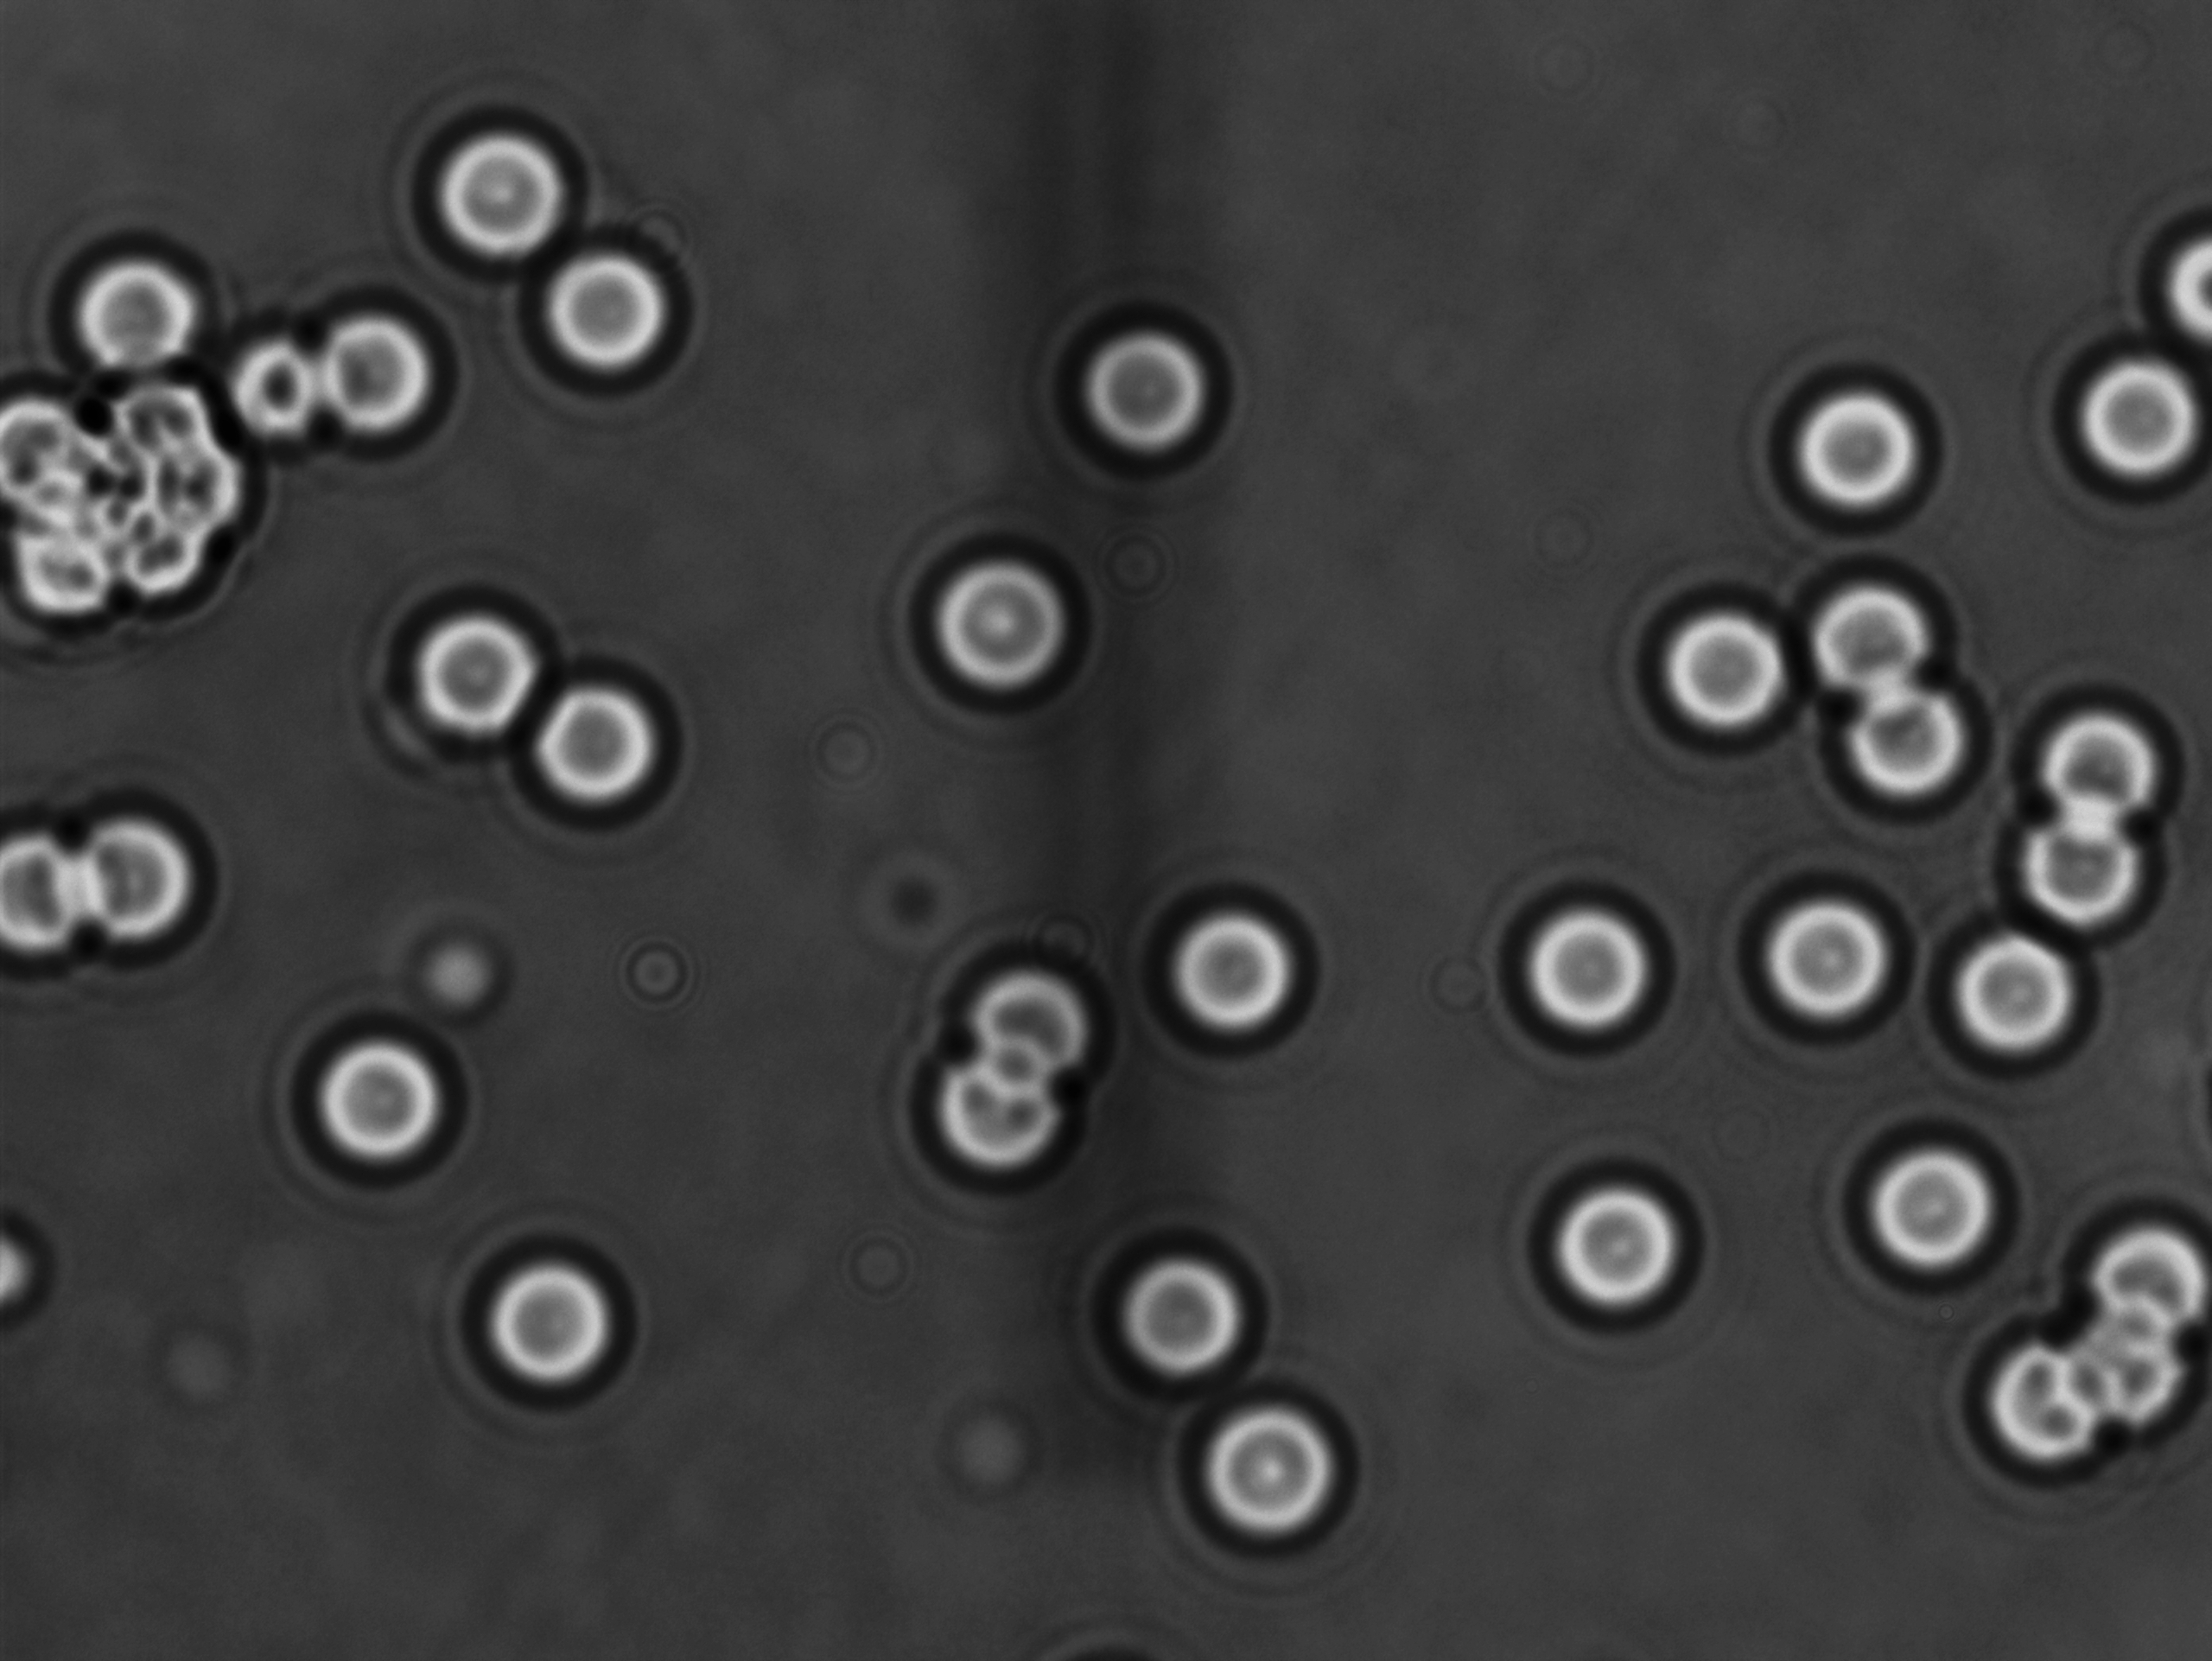depth:60: (440, 1204, 659, 1424), (1036, 288, 1256, 483), (1165, 1361, 1369, 1570), (269, 286, 473, 483), (270, 989, 476, 1185), (1490, 862, 1690, 1059), (1825, 1104, 2027, 1296), (1729, 860, 1935, 1047), (1615, 558, 1802, 754), (1921, 893, 2107, 1089), (2010, 670, 2196, 865), (907, 518, 1094, 710), (1509, 1153, 1713, 1328), (1778, 534, 1968, 721), (393, 89, 590, 269), (525, 227, 710, 415), (1755, 354, 1938, 544), (65, 783, 244, 972), (925, 918, 1113, 1094), (895, 1019, 1085, 1192), (1143, 878, 1328, 1052), (1818, 647, 1989, 836), (506, 658, 698, 825), (389, 590, 563, 769), (2032, 323, 2212, 497), (1089, 1234, 1272, 1403), (1990, 780, 2160, 956), (51, 223, 222, 379)
